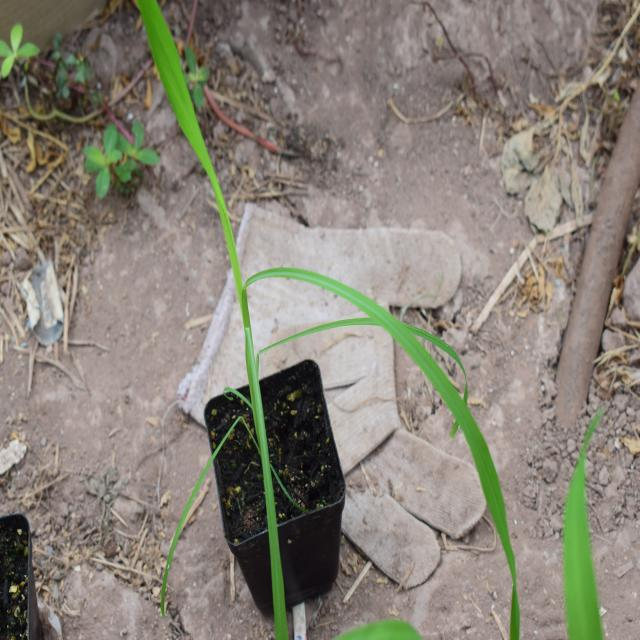barnyard_grass: (126, 1, 537, 606)
